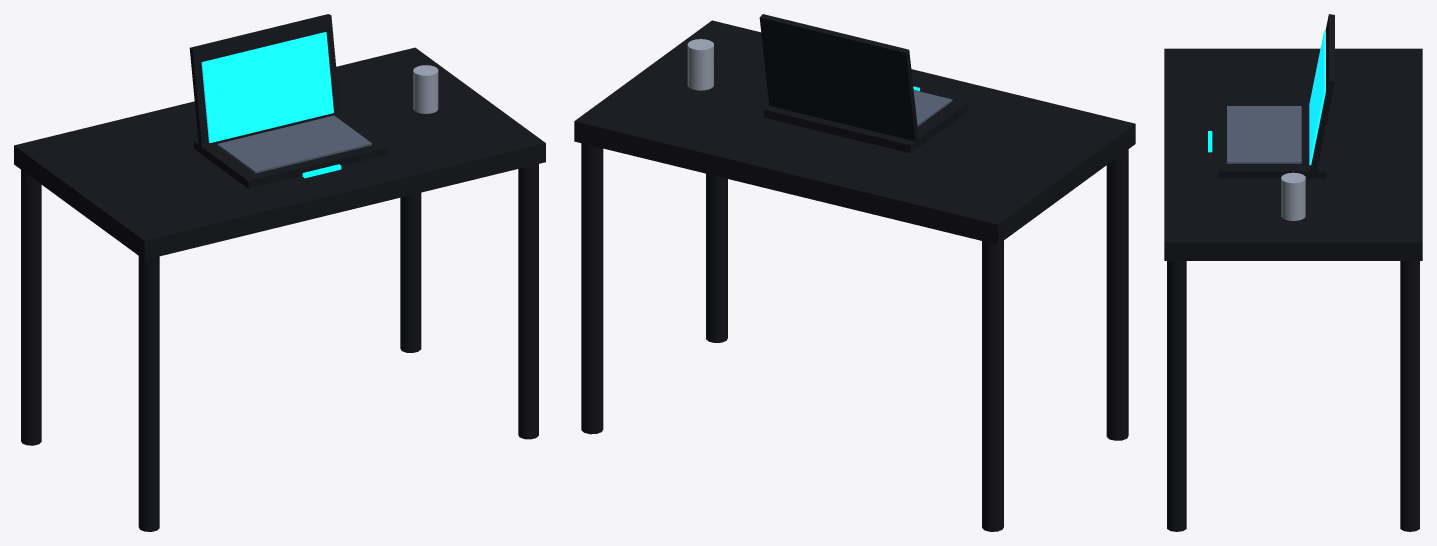
File: pc_cool_1.glb
The picture shows the model from 3 angles, left to right: view 1: azimuth 30°, elevation 25°; view 2: azimuth 150°, elevation 25°; view 3: azimuth 270°, elevation 25°; orthographic projection. The views are drawn at different scales.
Size of the model in its own units: 1.1 by 1.03 by 0.62.
